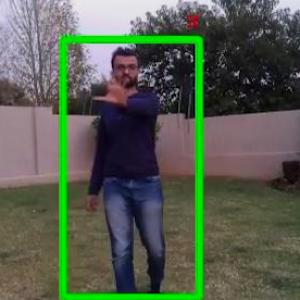follow_hand: (93, 66, 137, 108)
